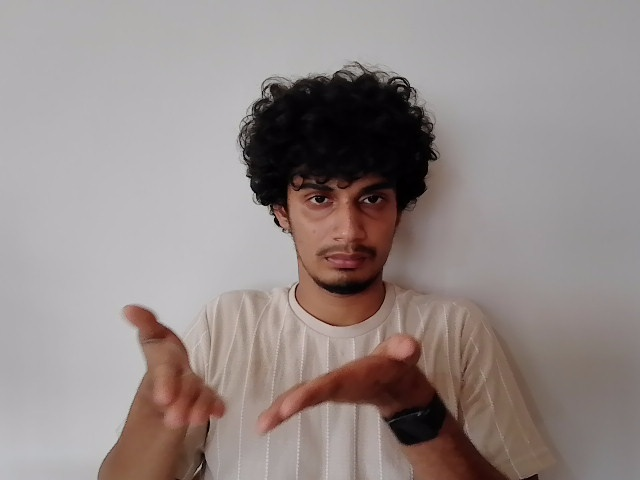here: (121, 304, 432, 436)
